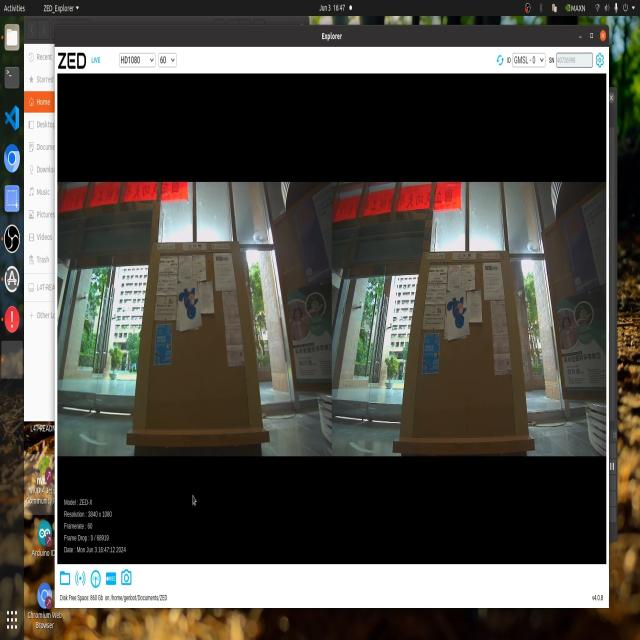blue: (172, 282, 204, 327), (444, 294, 466, 333)
